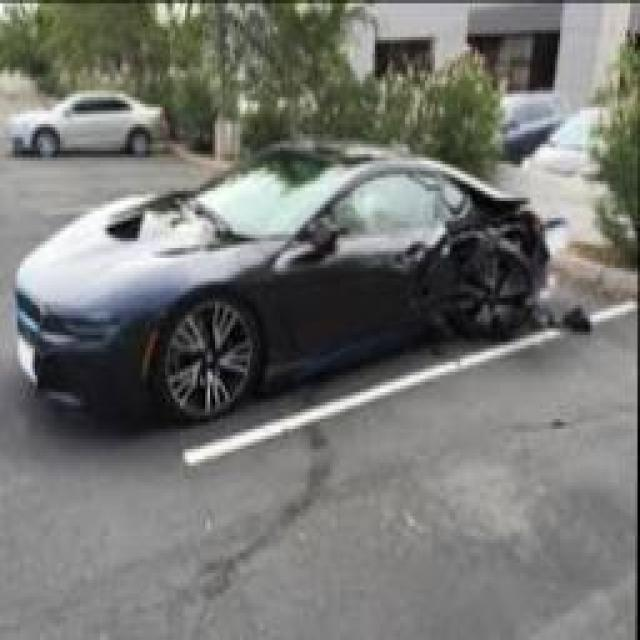Dickey: (448, 171, 534, 212)
Fender: (414, 215, 493, 339), (489, 211, 554, 305)
